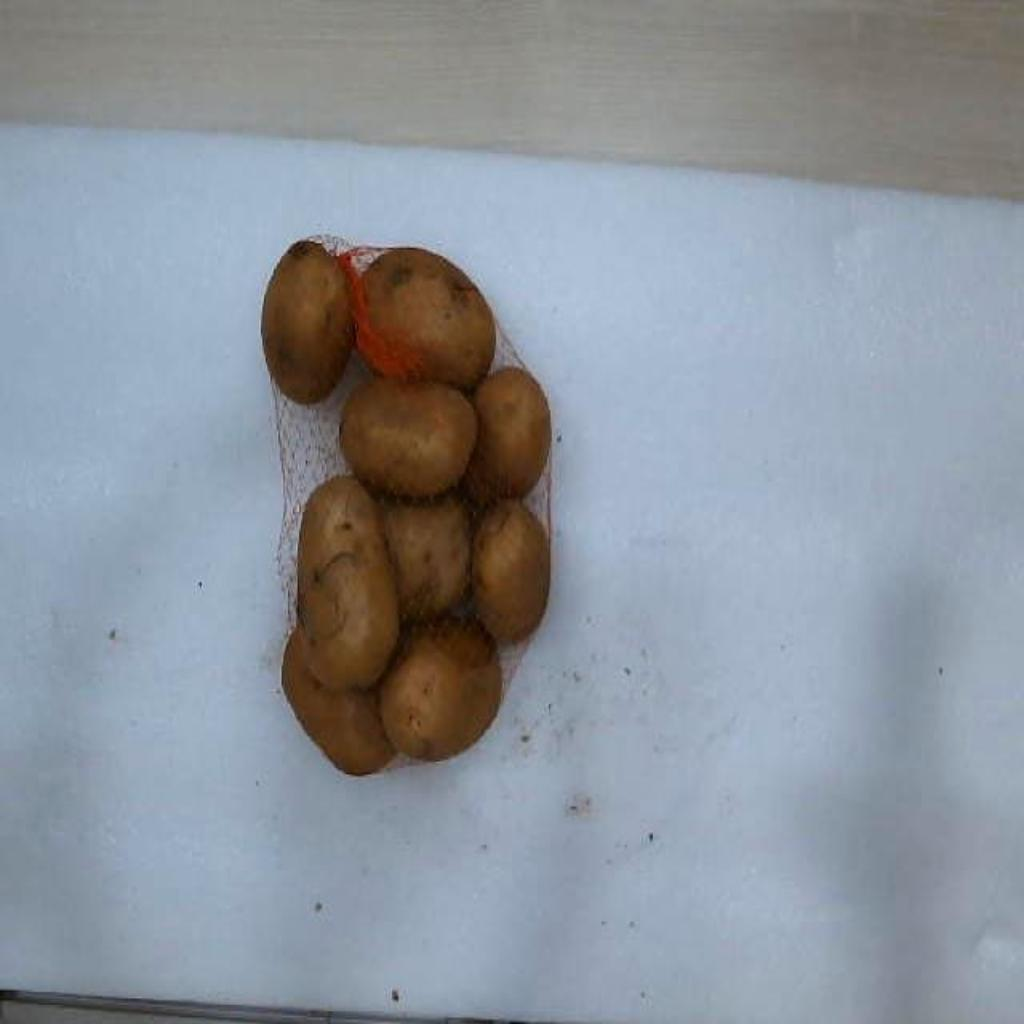potato: (298, 477, 400, 689), (356, 248, 496, 388), (380, 619, 502, 760), (340, 376, 478, 495), (282, 629, 394, 775), (262, 240, 352, 403), (464, 368, 550, 503), (380, 493, 470, 620), (472, 499, 550, 641)
